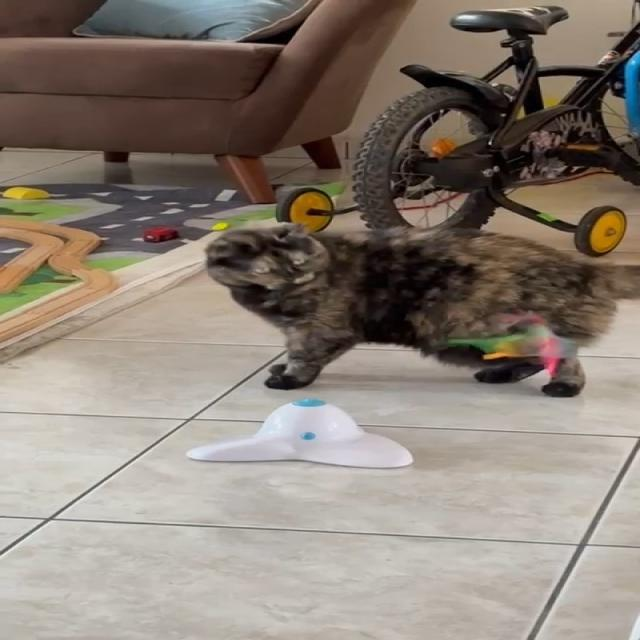authorized: (202, 221, 638, 397)
